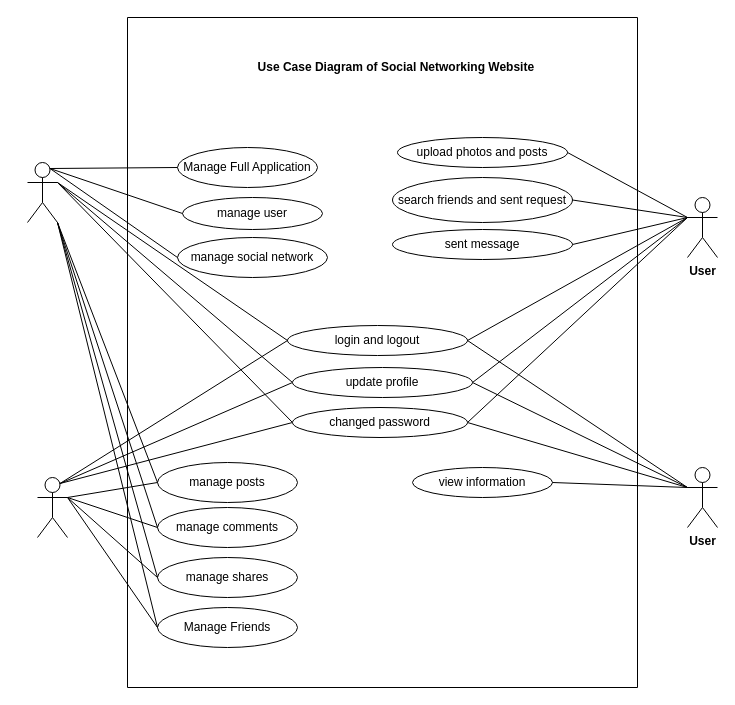
This 735x705 diagram has some shape labels left out. Each missing label, with the centre of its shape:
Admin: [42,192]
System user: [52,507]
